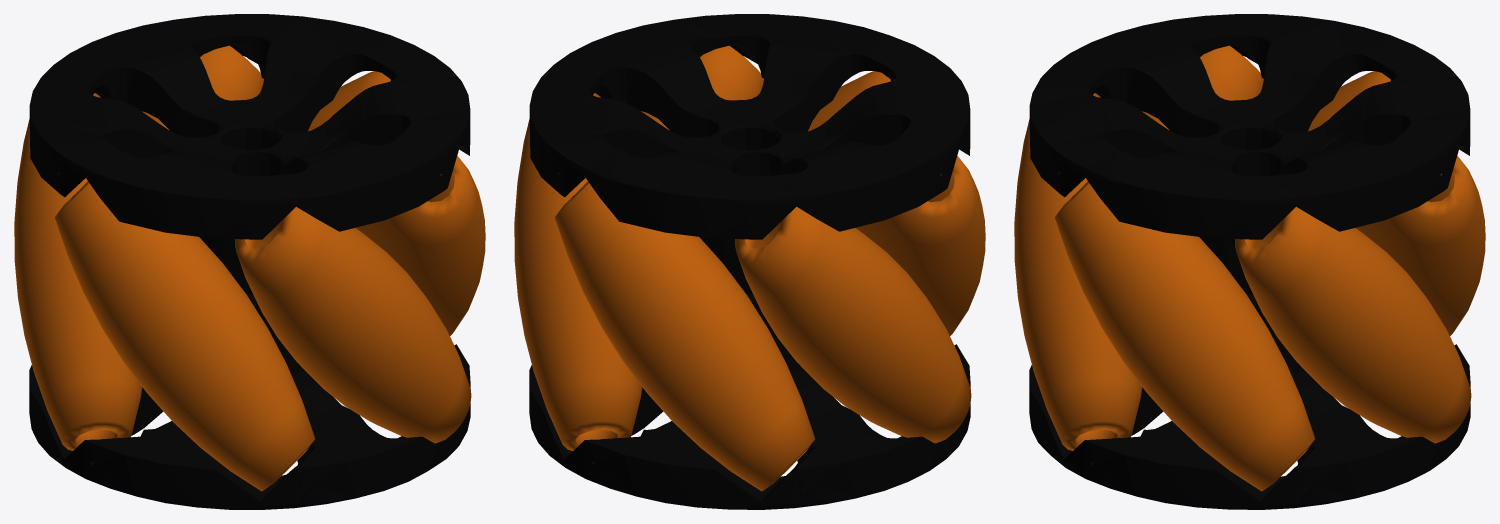
File: back-right_wheel.obj
3 renders of one model, left to right at view 1: azimuth 30°, elevation 25°; view 2: azimuth 150°, elevation 25°; view 3: azimuth 270°, elevation 25°, orthographic.
Parts seen in each view (by area): view 1: back-right_wheel_base-mesh.007; view 2: back-right_wheel_base-mesh.007; view 3: back-right_wheel_base-mesh.007.
Part boxes in pixels (x1=…): back-right_wheel_base-mesh.007: x1=14, y1=14, x2=485, y2=509; back-right_wheel_base-mesh.007: x1=514, y1=14, x2=985, y2=509; back-right_wheel_base-mesh.007: x1=1014, y1=14, x2=1485, y2=509.
Size of the model in its own units: 0.0999 by 0.0731 by 0.0997.
